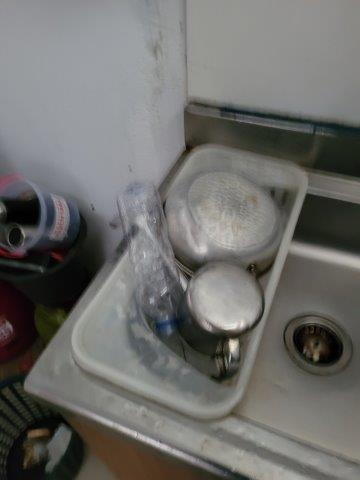botolplastik: (118, 182, 181, 334)
